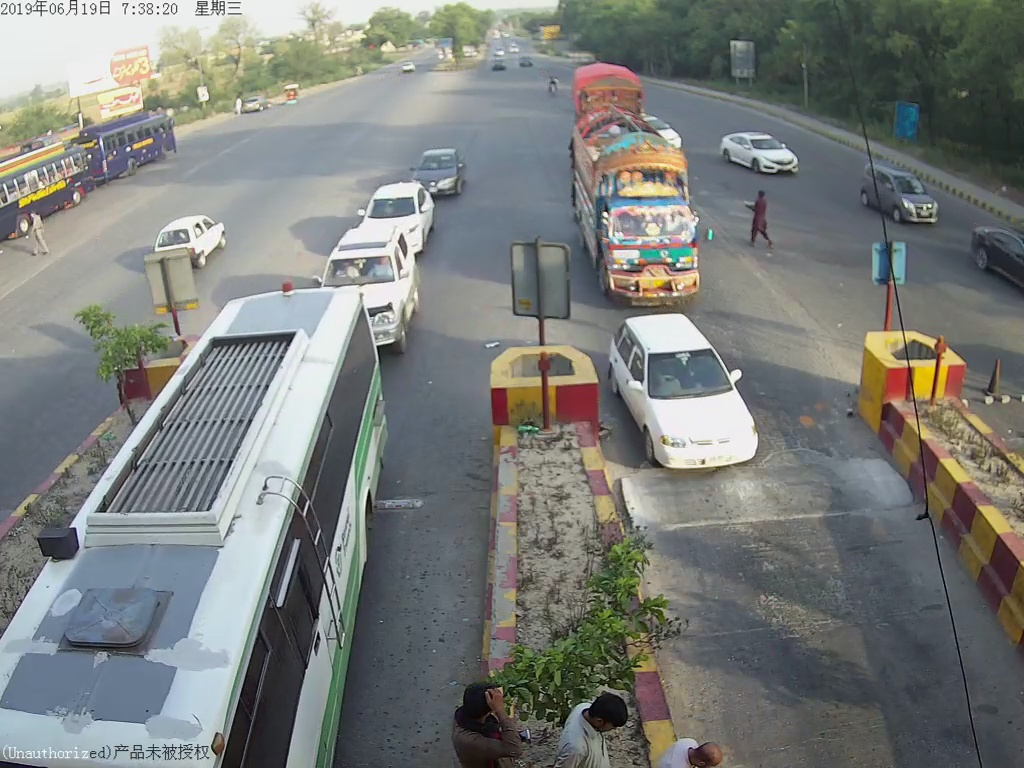Cat-1: (615, 304, 757, 469), (328, 223, 414, 346), (861, 161, 941, 230), (359, 180, 433, 249), (717, 122, 803, 180), (412, 144, 472, 195)
Cat-3: (51, 282, 386, 763)
Cat-4: (574, 110, 700, 302)
